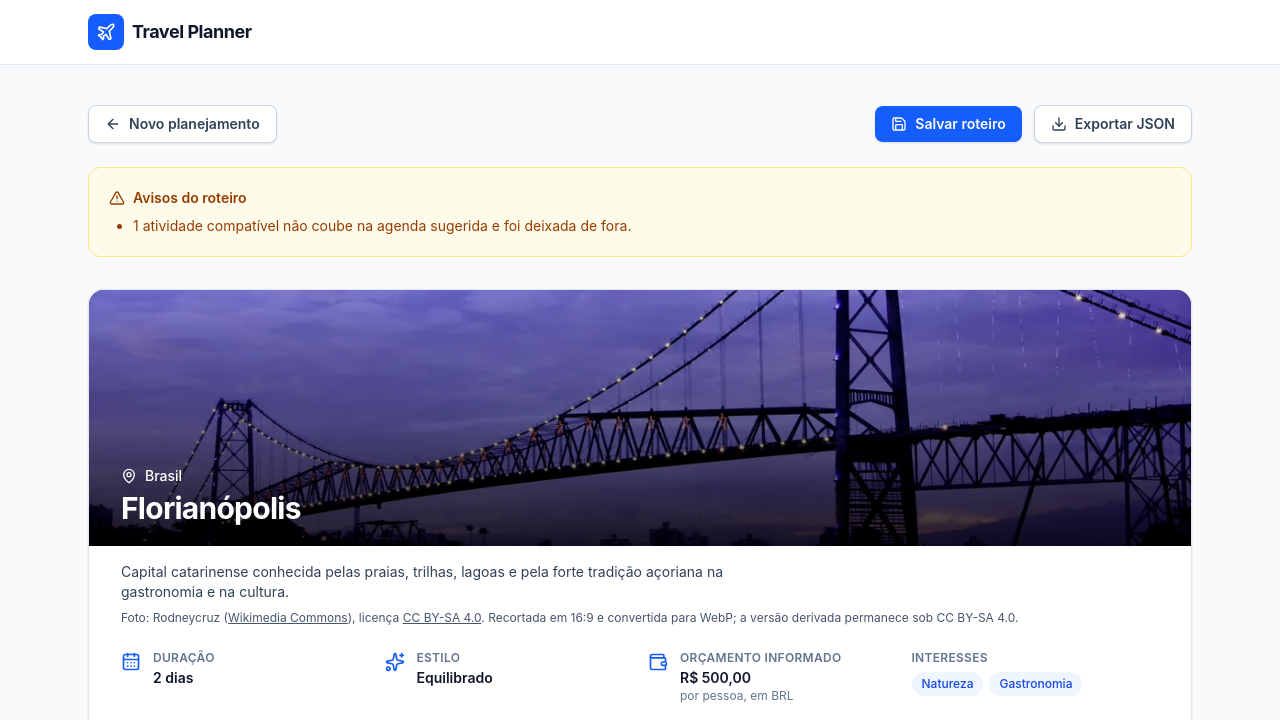
ItineraryPage — interações de persistência (P3) › salva com sucesso e só exibe a confirmação após a gravação confirmada
The width and height of the screenshot is (1280, 720).
Expected: the text "Roteiro salvo neste navegador" is not shown
Step 1. Click the button "Salvar roteiro" → (949, 124), box [875,106,1022,142]
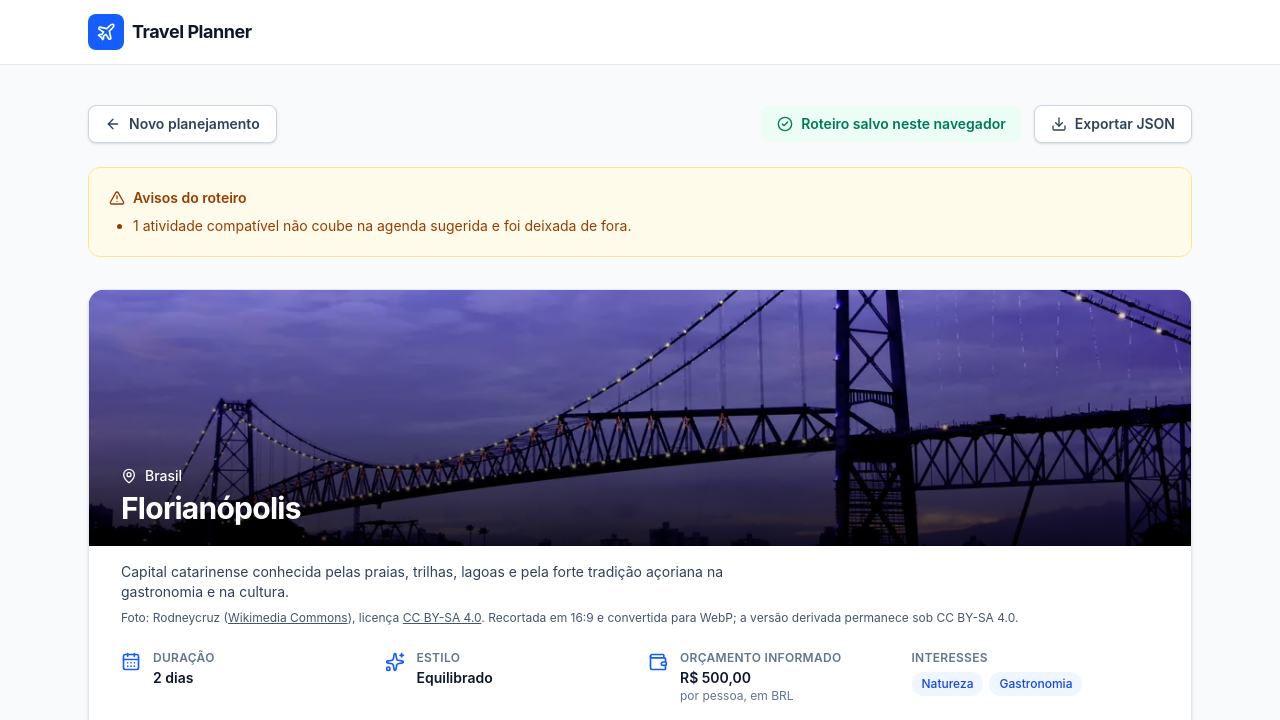
Now the text "Roteiro salvo neste navegador" is shown, box [761,106,1022,142]
Now the button "Salvar roteiro" is gone
